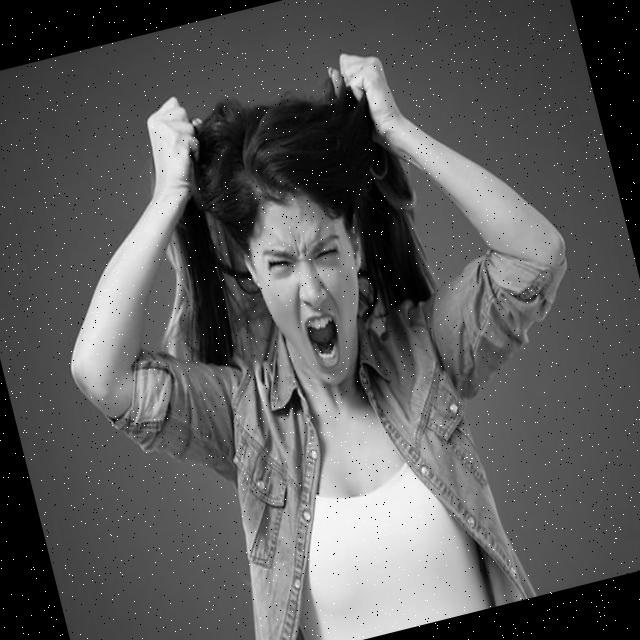Angry: (238, 184, 382, 396)
